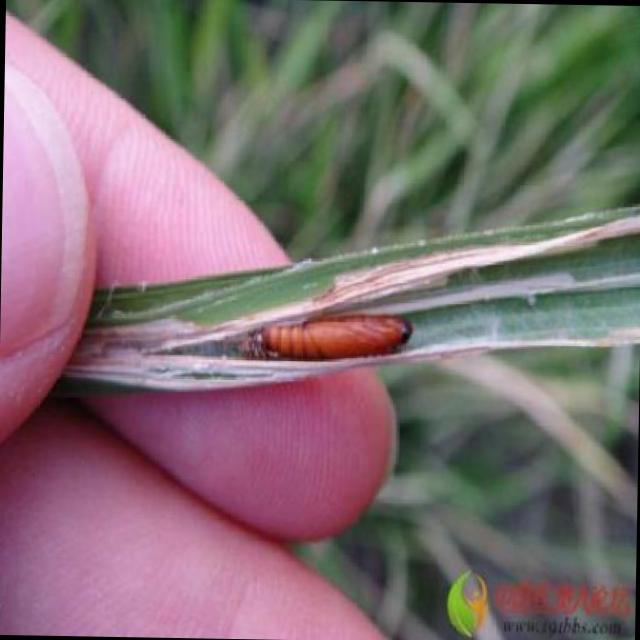leaf-folder: (242, 289, 425, 388)
